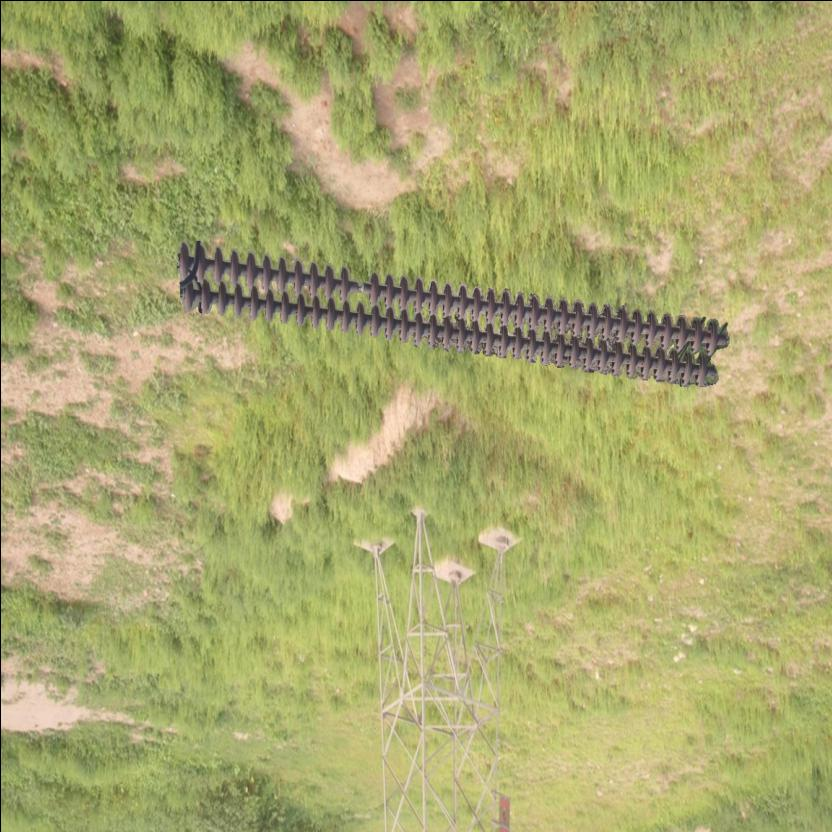defect: (332, 266, 382, 308)
